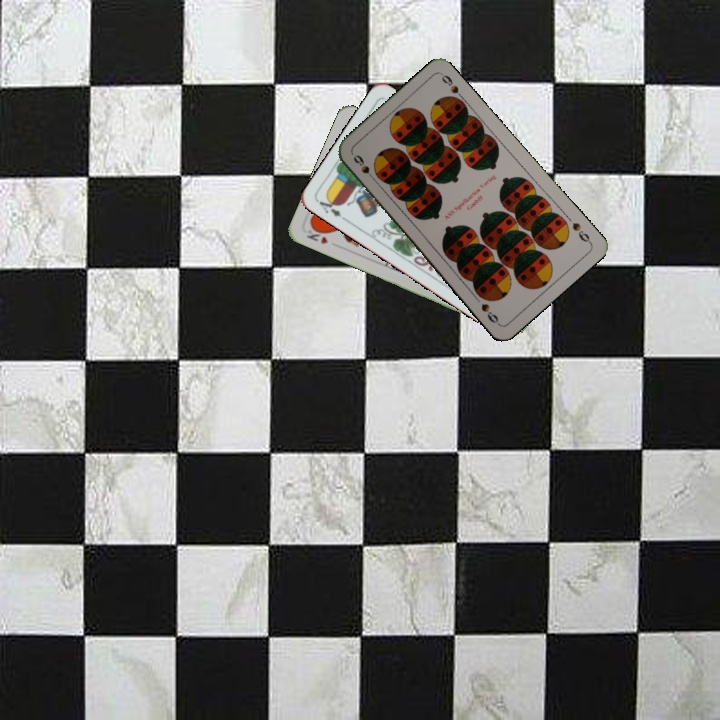EA: (315, 192, 350, 224)
HK: (302, 222, 330, 247)
S9: (349, 150, 379, 184), (568, 218, 594, 246)
